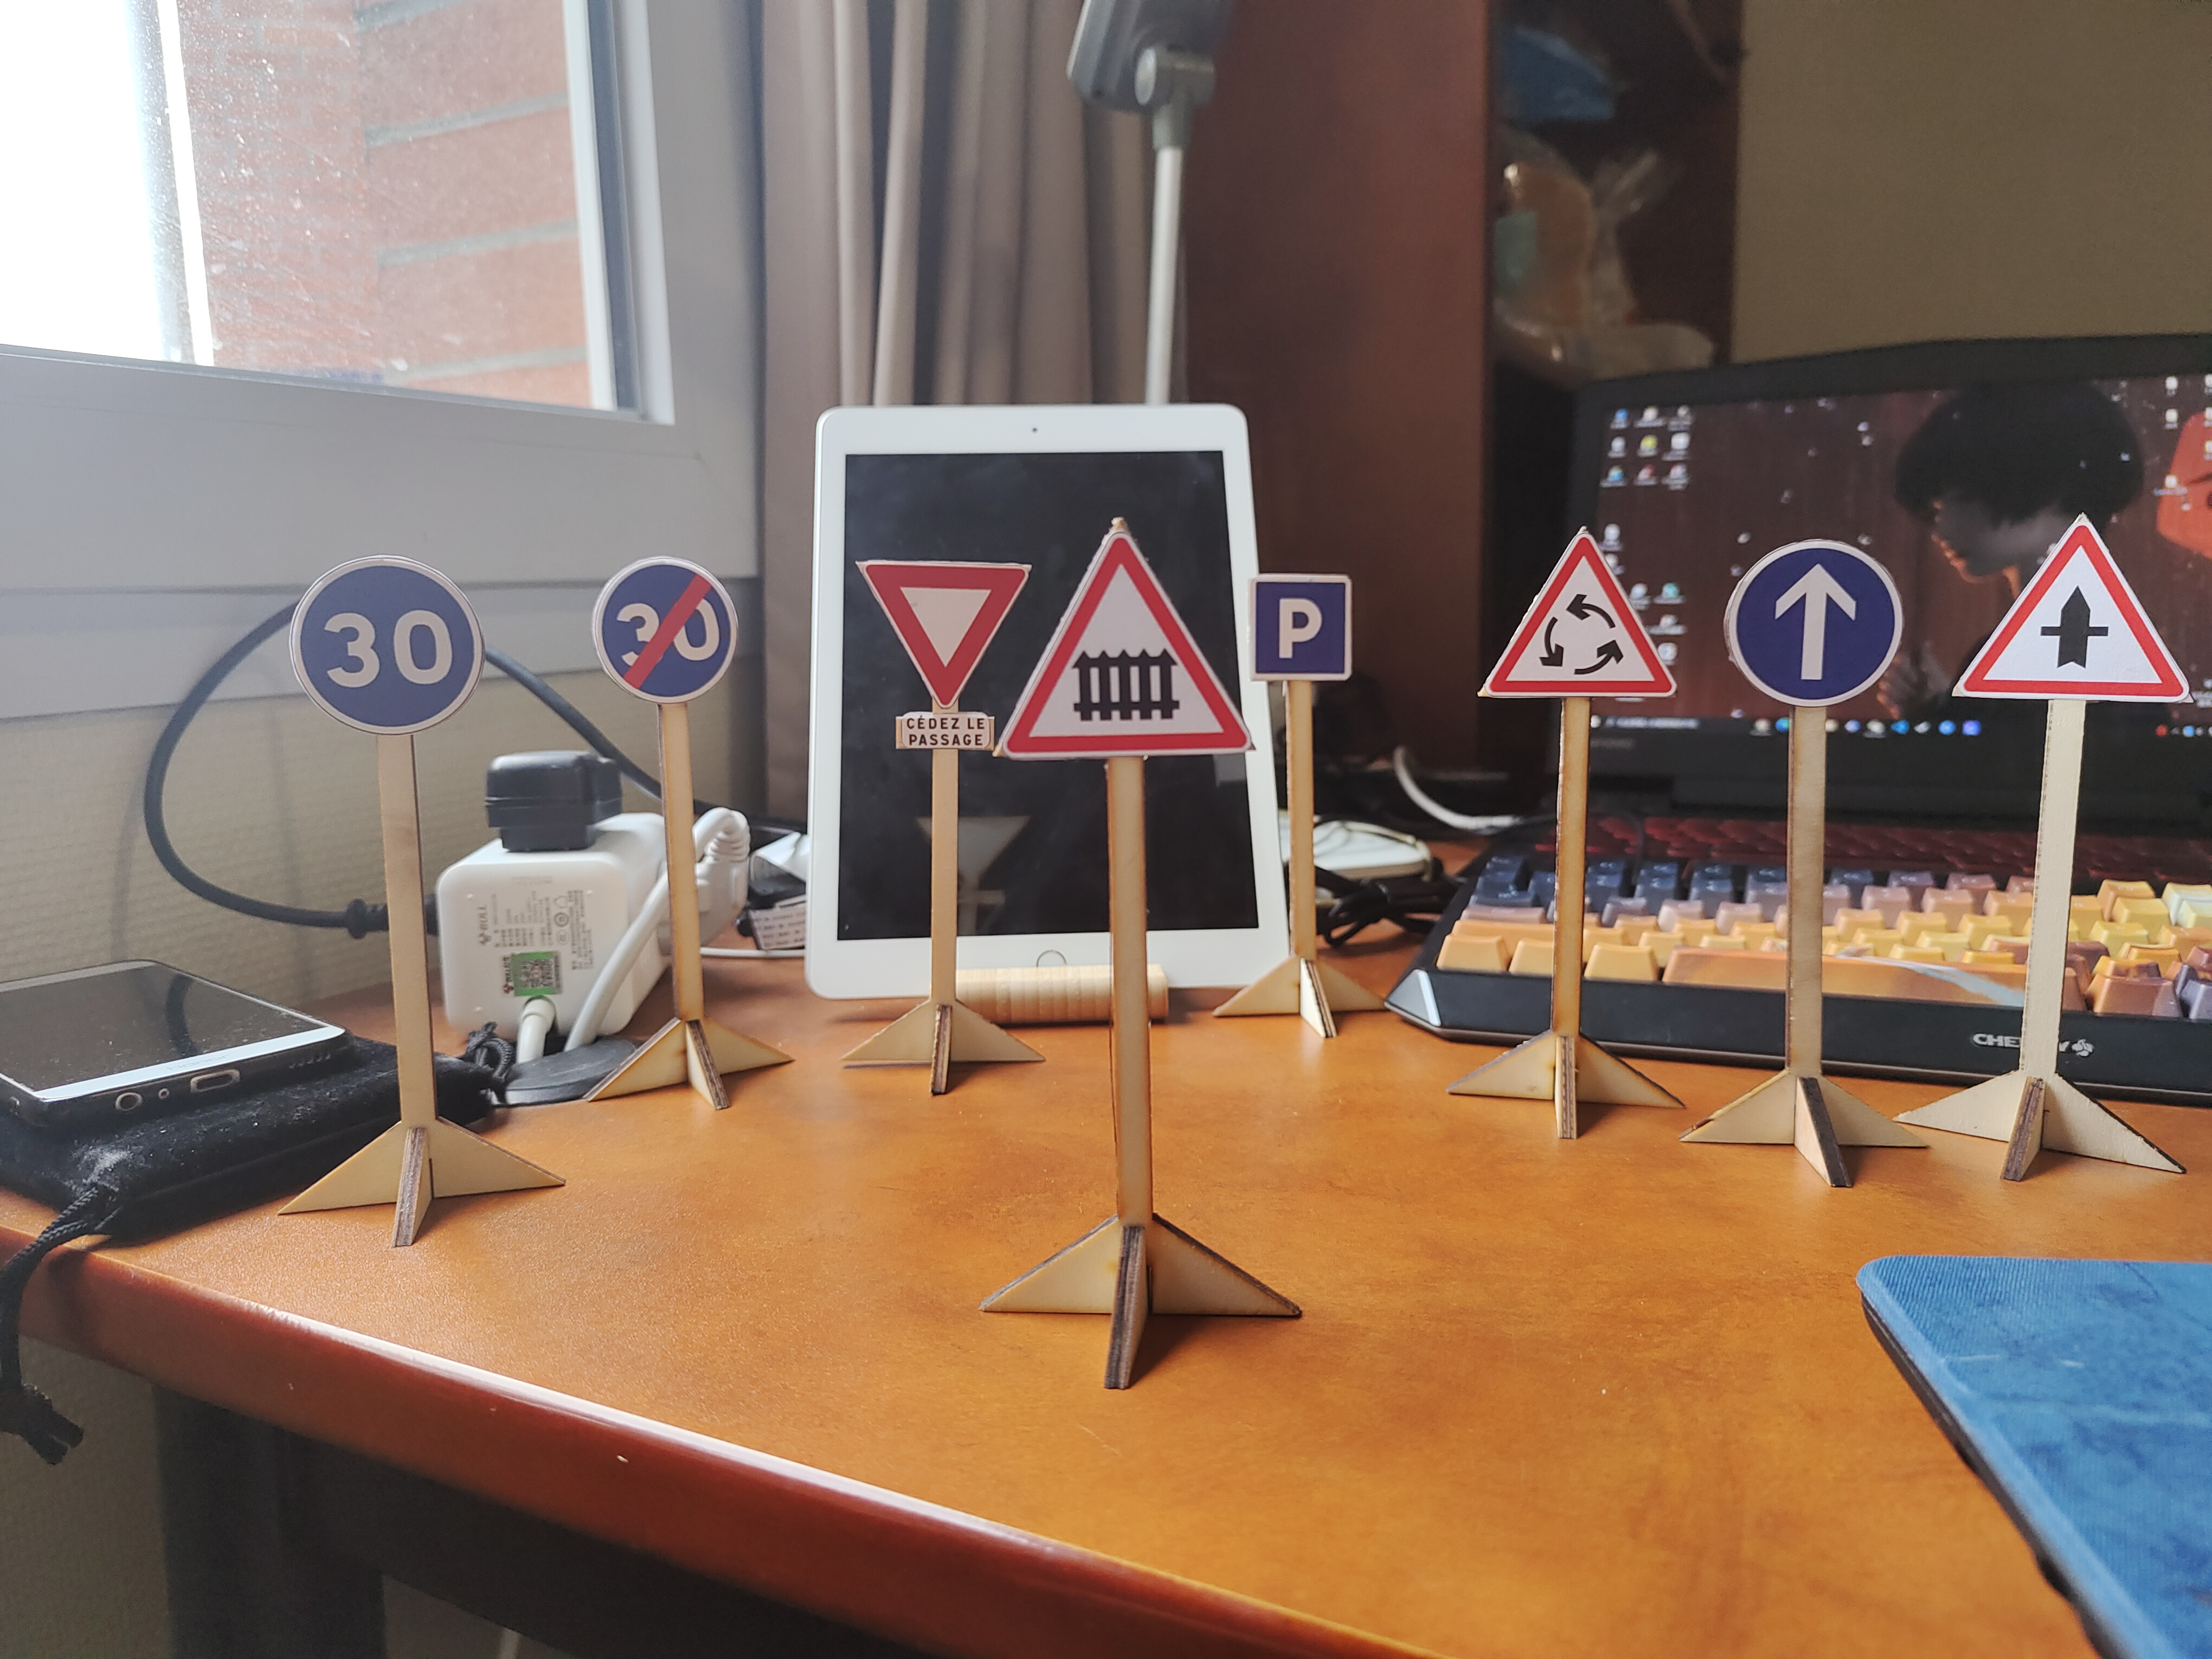P: (1249, 572, 1359, 681)
ban: (590, 558, 737, 704)
cycle: (1470, 528, 1679, 701)
first: (1961, 525, 2193, 709)
second: (855, 554, 1028, 749)
straight: (1733, 540, 1902, 704)
thirty: (294, 559, 475, 725)
train: (995, 525, 1245, 758)
